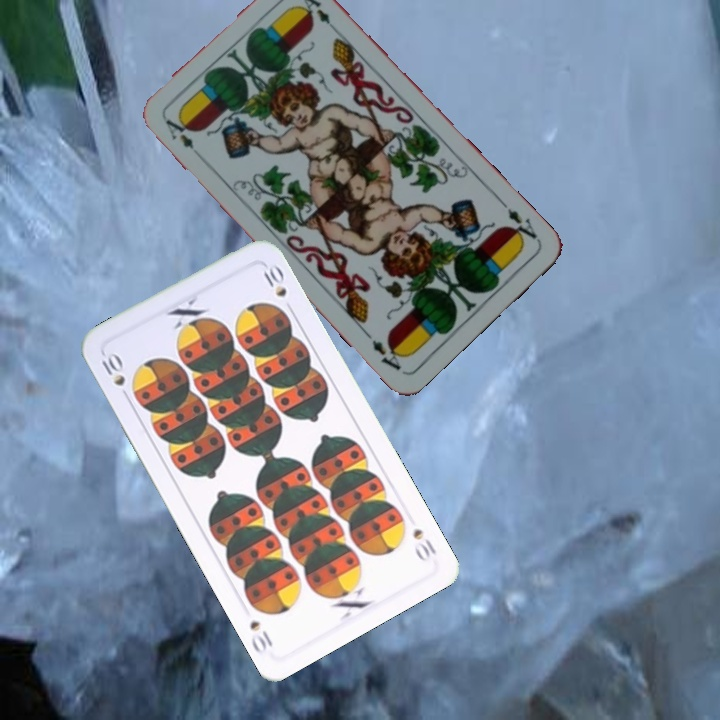EA: (503, 204, 542, 247), (161, 114, 197, 152)
S10: (97, 348, 133, 404), (408, 524, 439, 565)
